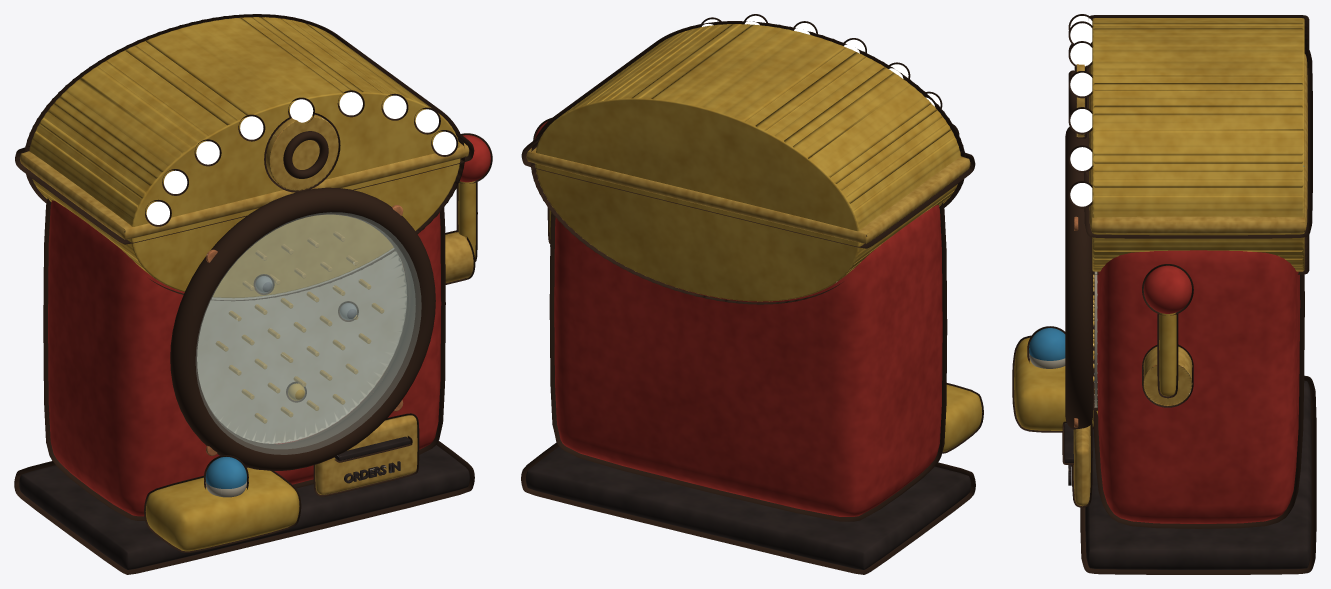
Rendered from Lab_Pachinko.fbx.
3 renders of one model, left to right at view 1: azimuth 30°, elevation 25°; view 2: azimuth 150°, elevation 25°; view 3: azimuth 270°, elevation 25°, orthographic. The views are drawn at different scales.
Parts seen in each view (by area): view 1: Lab_Pachinko, Lab_Pachinko_Glass, Lab_Pachinko_Outline; view 2: Lab_Pachinko, Lab_Pachinko_Outline; view 3: Lab_Pachinko, Lab_Pachinko_Outline.
Part boxes in pixels (box(x1,y1,x2,y2)): Lab_Pachinko: box(19, 17, 490, 569); Lab_Pachinko_Glass: box(196, 212, 421, 454); Lab_Pachinko_Outline: box(14, 14, 492, 574); Lab_Pachinko: box(526, 15, 982, 569); Lab_Pachinko_Outline: box(521, 14, 983, 574); Lab_Pachinko: box(1014, 16, 1311, 569); Lab_Pachinko_Outline: box(1012, 14, 1316, 574).
Size of the model in its own units: 3.14 by 3.24 by 1.99.
